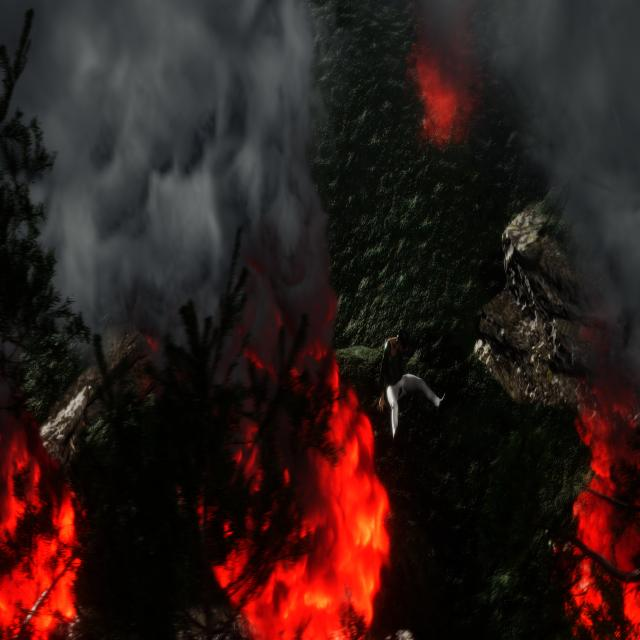Human: (374, 320, 454, 457)
